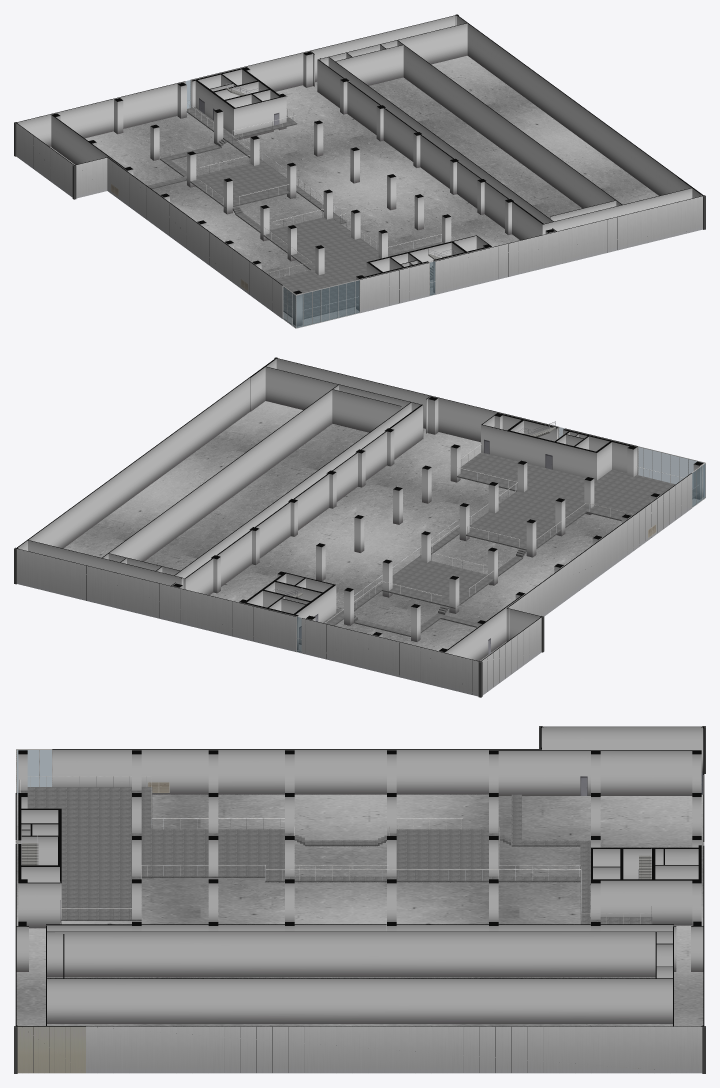
3 views of the same model, one above another, from view 1: azimuth 30°, elevation 25°; view 2: azimuth 150°, elevation 25°; view 3: azimuth 270°, elevation 25° (orthographic). The views are drawn at different scales.
Visible parts, largest first — view 1: W&FF-5F-2, Rectangle1785, Line1173, 5-2외유리; view 2: W&FF-5F-2, Rectangle1785, Line1173, 5-2외유리; view 3: W&FF-5F-2, Rectangle1785, Line1173, 5-2외유리, Railing075.
Boxes of the visible parts, x1,y1,x2,y2 form: W&FF-5F-2: (16,15,703,326); Rectangle1785: (50,55,658,327); Line1173: (147,103,457,319); 5-2외유리: (185,80,435,328); W&FF-5F-2: (16,358,703,696); Rectangle1785: (63,401,705,661); Line1173: (298,444,699,644); 5-2외유리: (296,427,705,653); W&FF-5F-2: (15,726,704,1073); Rectangle1785: (16,794,703,1026); Line1173: (19,776,652,925); 5-2외유리: (15,749,704,845); Railing075: (21,836,651,879).
Size of the model in its own units: 67.15 by 5.78 by 65.15.
Materials: 17 (13 with a texture image).
